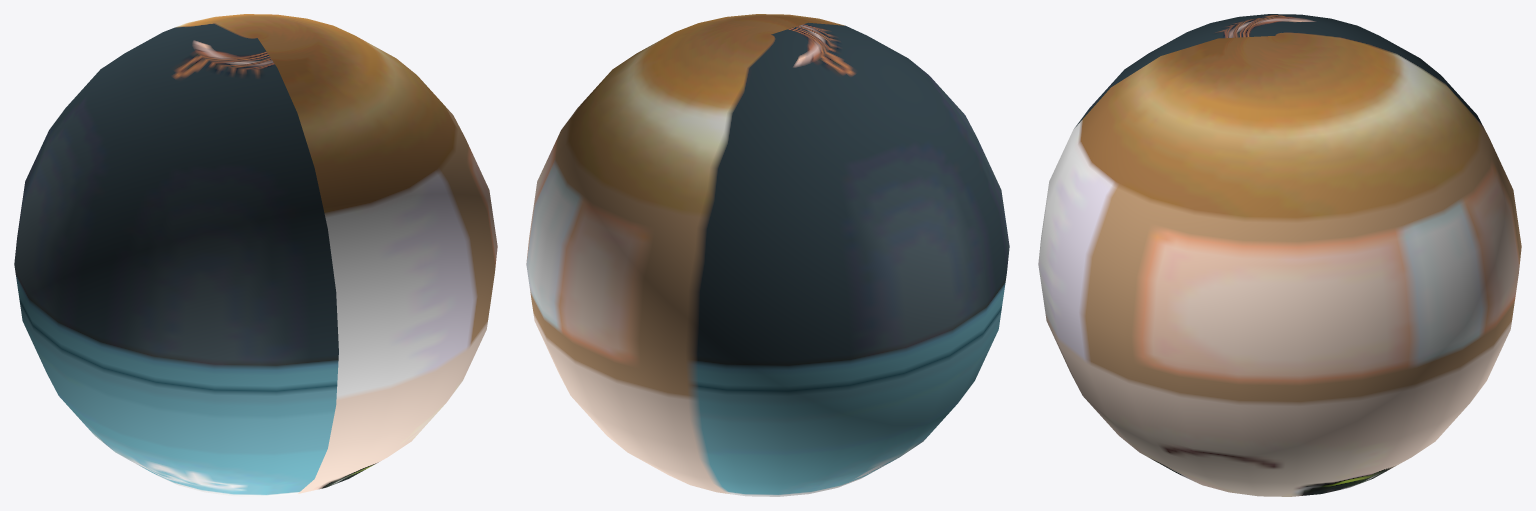
The model's file is view.ico.obj.
The picture shows the model from 3 angles, left to right: view 1: azimuth 30°, elevation 25°; view 2: azimuth 150°, elevation 25°; view 3: azimuth 270°, elevation 25°; orthographic projection.
Size of the model in its own units: 3.23 by 3.25 by 3.23.
